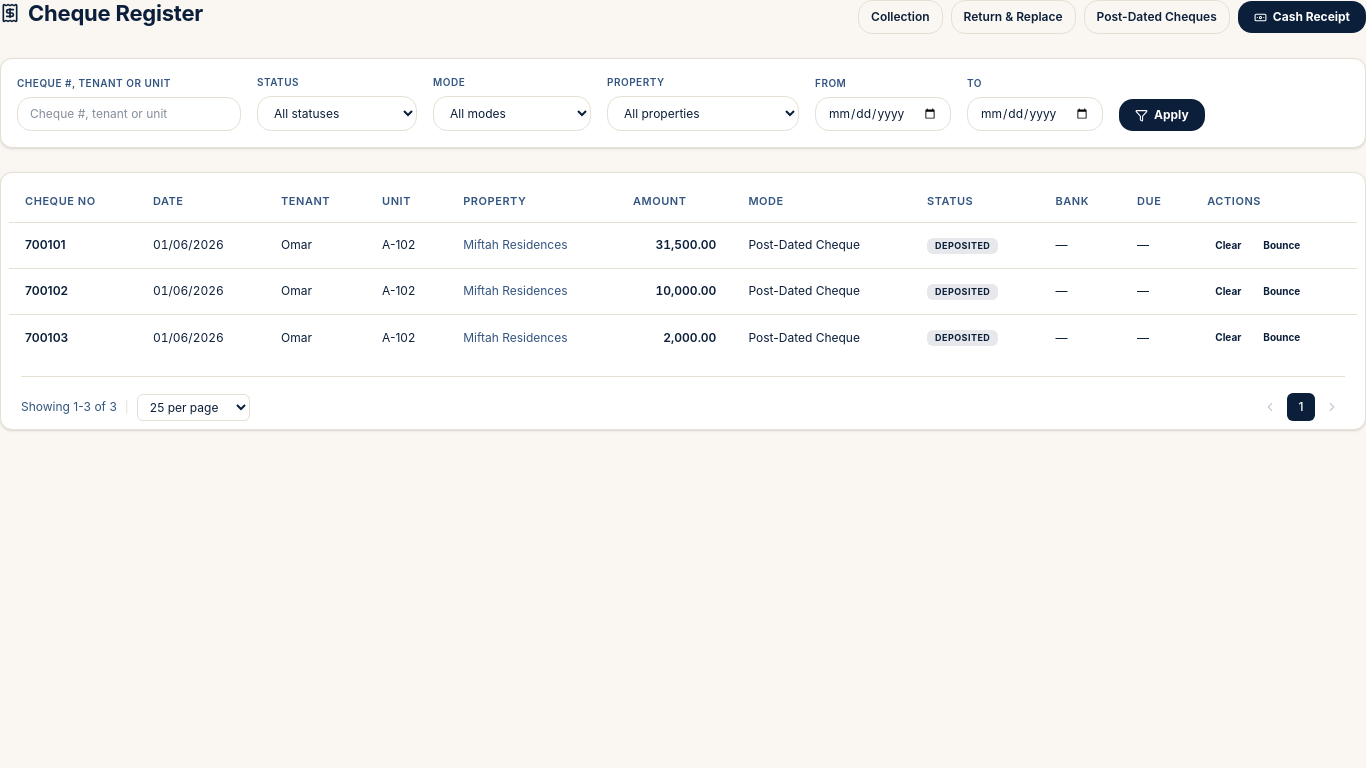
Test case: Cheque register batch clear (#57) › clears exactly the ticked ids with the chosen date and narration
This screenshot has width=1366, height=768.
Check: the row with test id "cheque-row-c1" is shown, box [9, 222, 1357, 268]
Step 1. Select "Deposited" in the dropdown with test id "cheque-status-filter" → (337, 114), box [257, 96, 417, 131]
Step 2. Click the button with test id "cheque-filter-apply" → (1162, 115), box [1119, 99, 1205, 131]
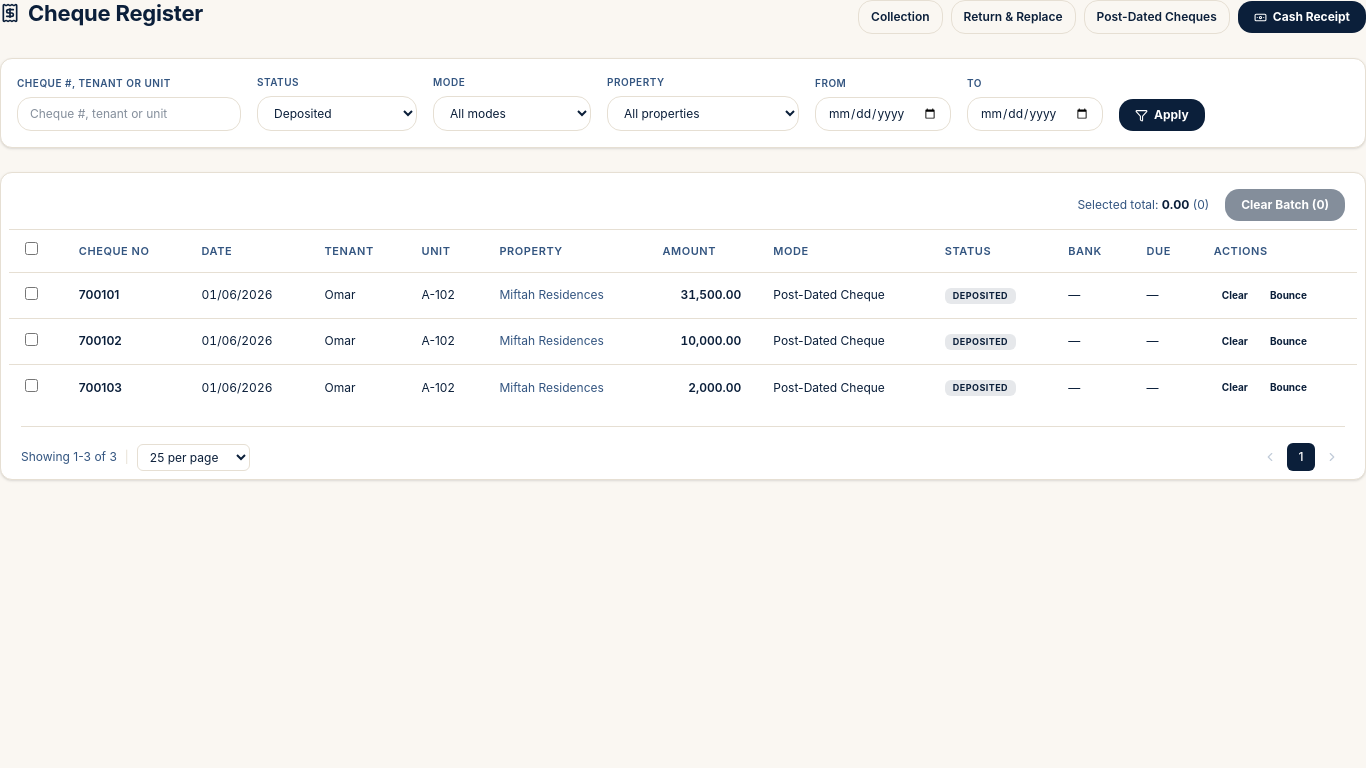
Check: the button with test id "clear-batch-open" is disabled, box [1225, 189, 1345, 221]
Step 3. Click the checkbox with test id "clear-batch-select-c1" → (32, 293), box [25, 287, 38, 300]
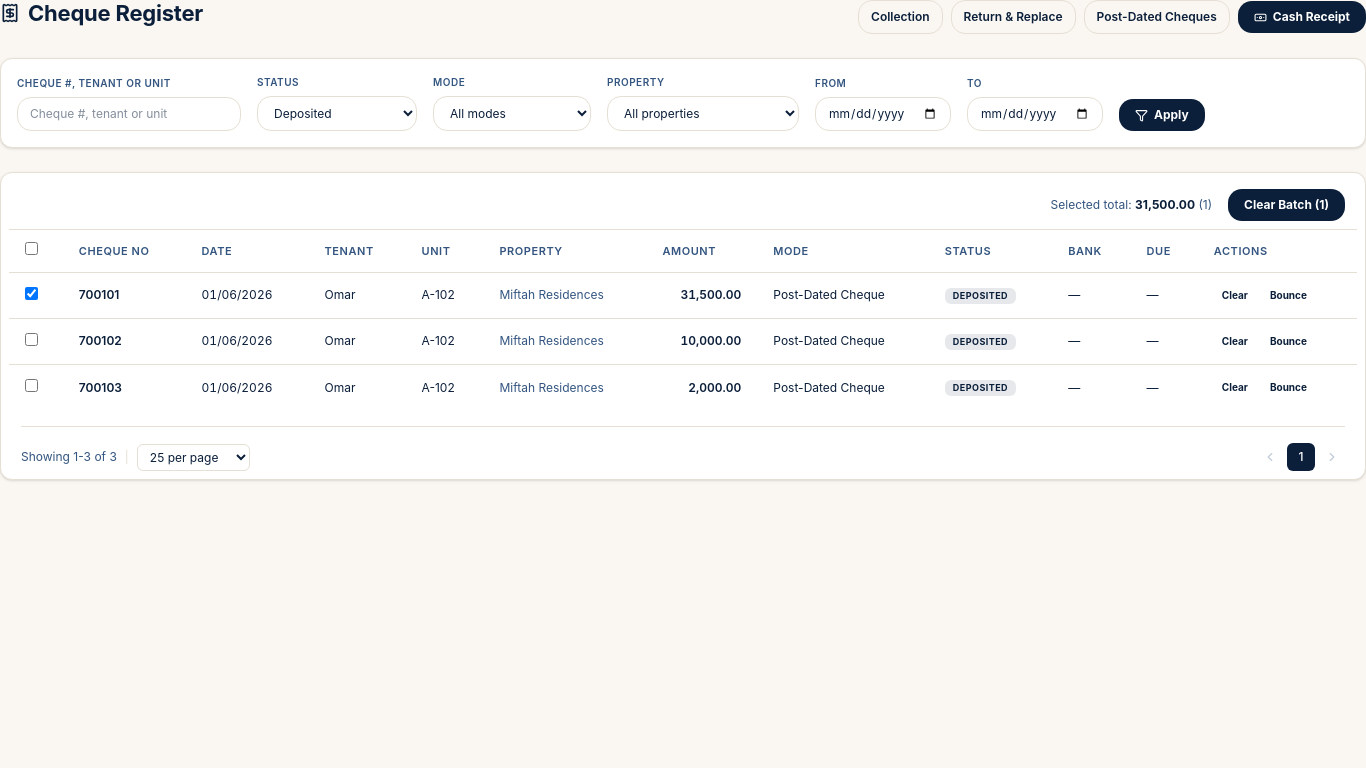
Step 4. Click the checkbox with test id "clear-batch-select-c3" → (32, 386), box [25, 379, 38, 392]
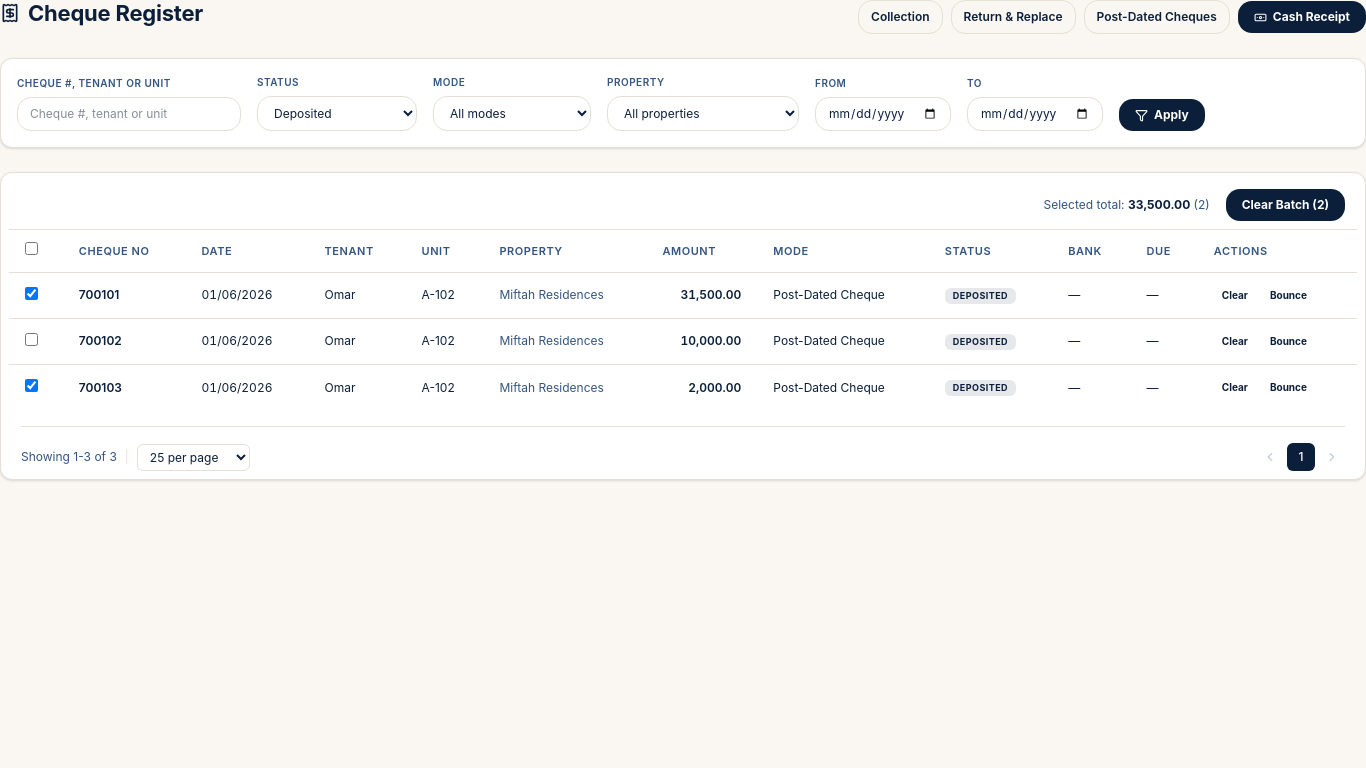
Check: the element with test id "clear-batch-selected-total" shows "33,500.00", box [1128, 197, 1190, 212]
Step 5. Click the button with test id "clear-batch-open" → (1285, 205), box [1226, 189, 1345, 221]
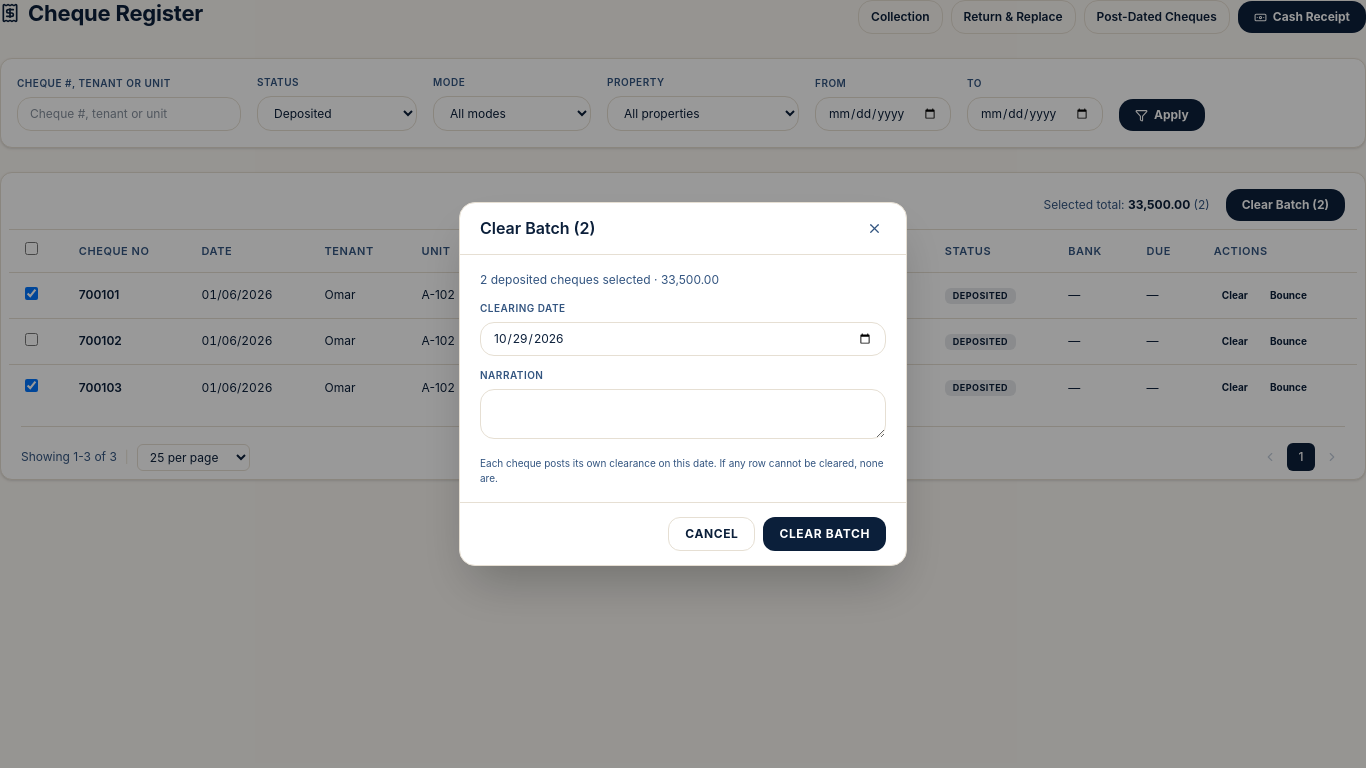
Check: the text with test id "clear-batch-total" shows "33,500.00", box [480, 272, 719, 287]
Step 6. Type "2026-07-08" into the date field with test id "clear-batch-date" → (683, 339), box [480, 322, 886, 356]
Step 7. Type "ENBD credit 8 Jul" into the text box with test id "clear-batch-narration" → (683, 414), box [480, 389, 886, 439]
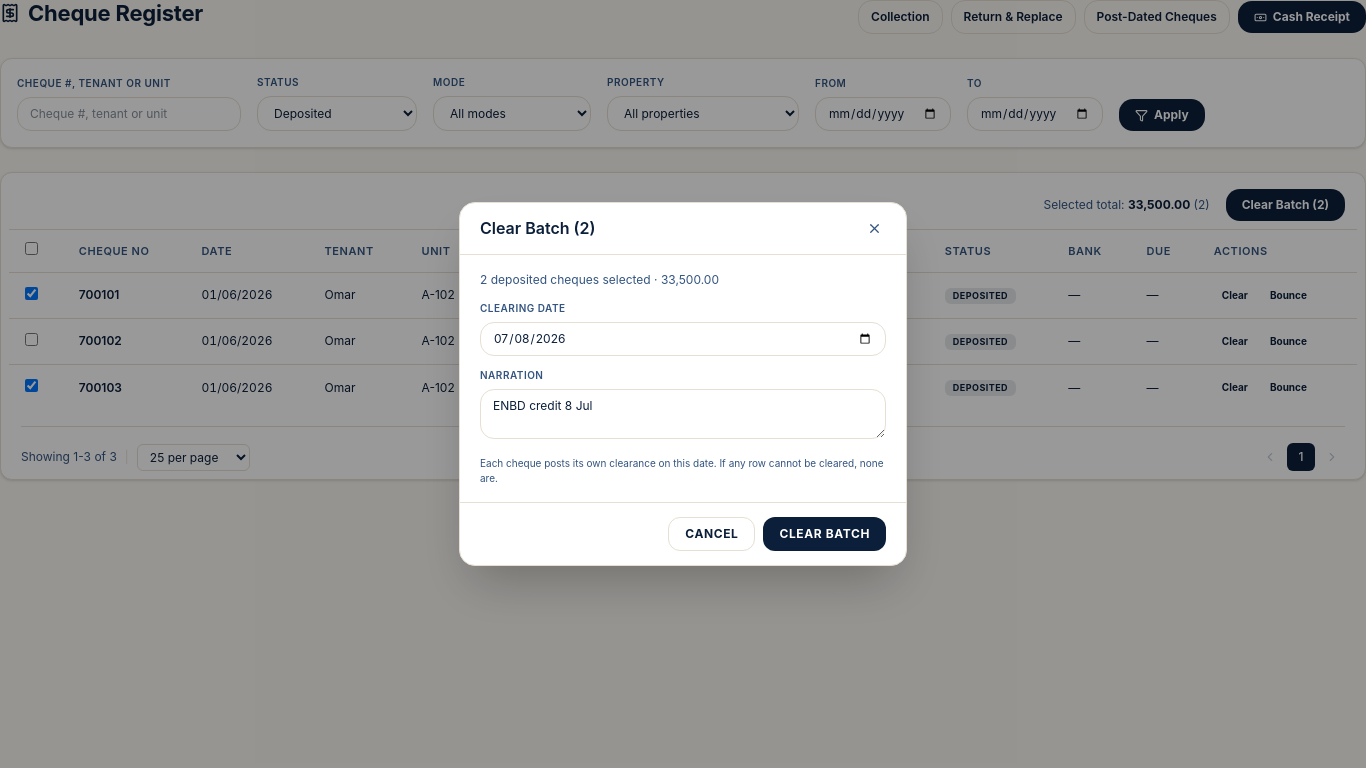
Step 8. Click the button with test id "clear-batch-confirm" → (825, 534), box [764, 517, 886, 551]
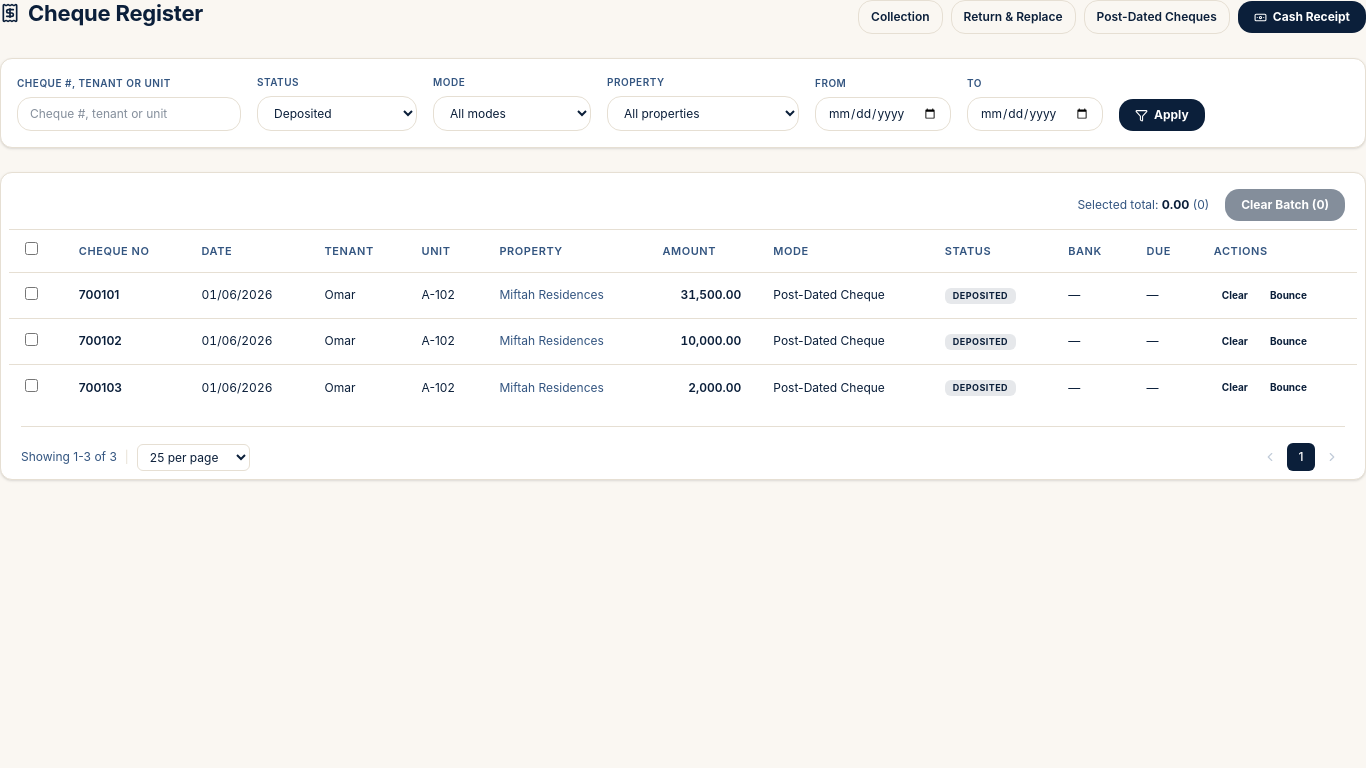
Check: the button with test id "clear-batch-open" shows "(0)", box [1225, 189, 1345, 221]
